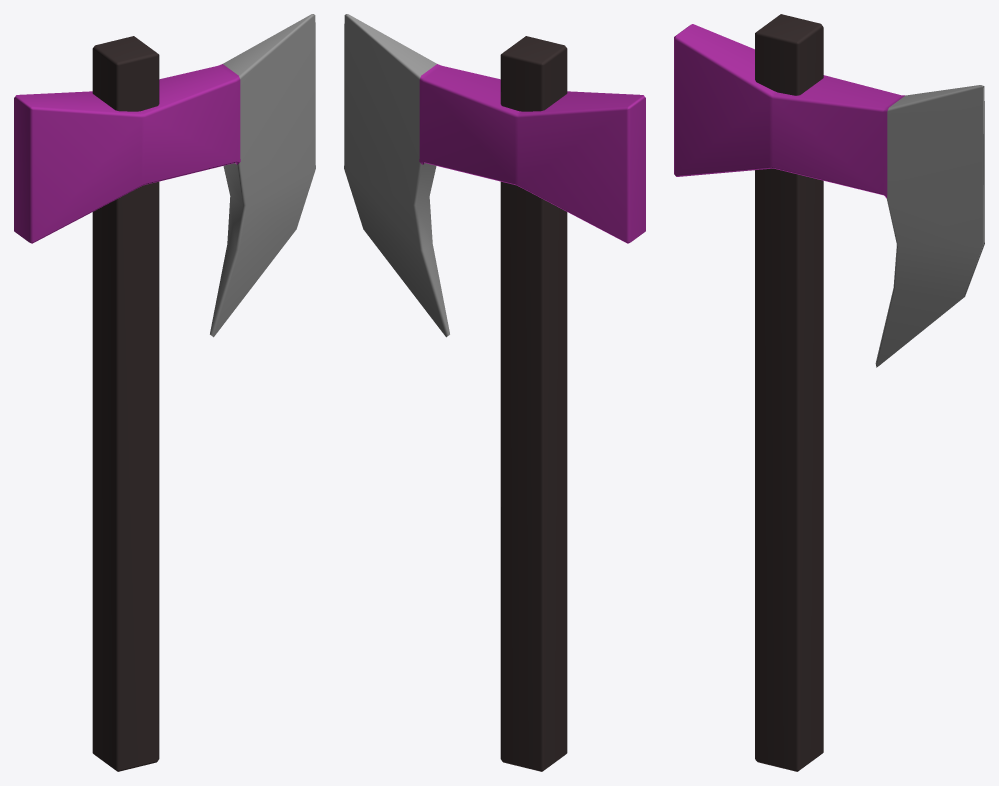
Rendered from axe_2.FBX.
The picture shows the model from 3 angles, left to right: view 1: azimuth 30°, elevation 25°; view 2: azimuth 150°, elevation 25°; view 3: azimuth 330°, elevation 25°; orthographic projection. The views are drawn at different scales.
Visible parts, largest first — view 1: axe_2; view 2: axe_2; view 3: axe_2.
Boxes of the visible parts, x1,y1,x2,y2 form: axe_2: (14, 14, 315, 771); axe_2: (344, 14, 645, 771); axe_2: (674, 14, 984, 771).
Size of the model in its own units: 1.1 by 2.54 by 0.2262.
